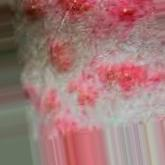Ants: (64, 66, 109, 113), (100, 63, 152, 90), (112, 0, 155, 24), (45, 35, 73, 71), (28, 86, 60, 112), (58, 0, 91, 22), (22, 0, 48, 22)
